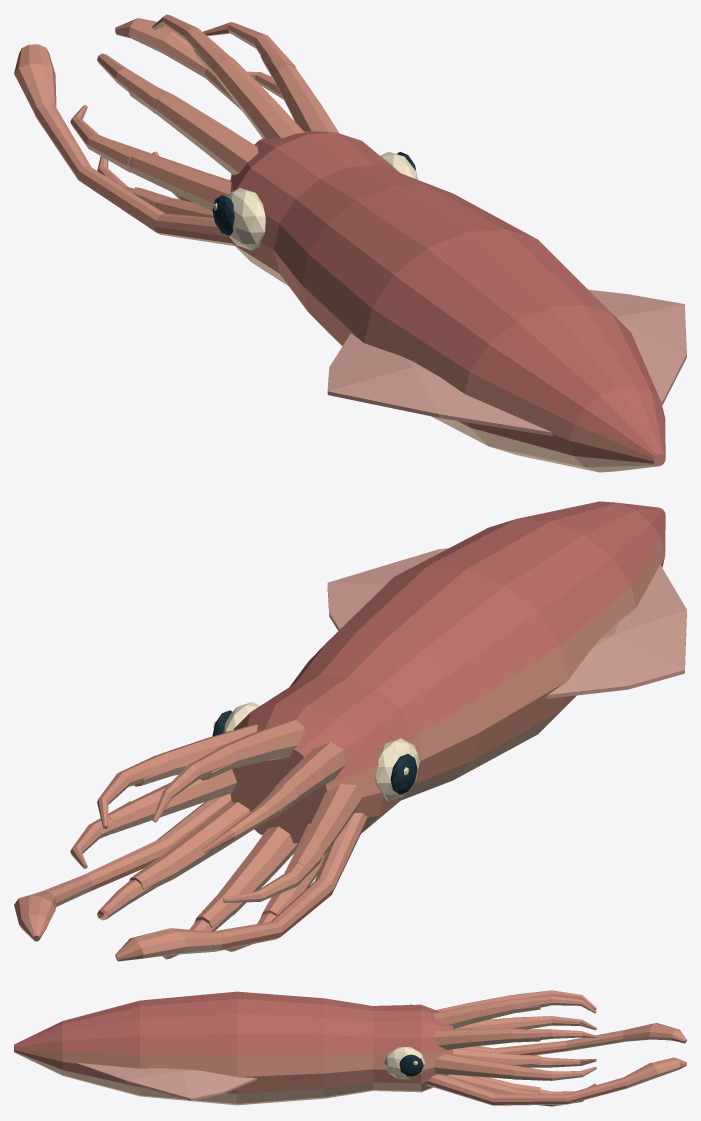
Rendered from wild_squid.glb.
The picture shows the model from 3 angles, top to bottom: view 1: azimuth 30°, elevation 25°; view 2: azimuth 150°, elevation 25°; view 3: azimuth 270°, elevation 25°; orthographic projection. The views are drawn at different scales.
Parts seen in each view (by area): view 1: continuous mantle and head, triangular mantle fin, long feeding tentacle, triangular mantle fin.001, supple short arm.003, supple short arm.002, supple short arm.004, supple short arm.001, long feeding tentacle.001, curled arm tip.003, curled arm tip.002, curled arm tip.004 (+2 smaller); view 2: continuous mantle and head, triangular mantle fin, long feeding tentacle, long feeding tentacle.001, supple short arm.006, supple short arm.007, triangular mantle fin.001, supple short arm, supple short arm.002, supple short arm.004, supple short arm.003, supple short arm.001 (+7 smaller); view 3: continuous mantle and head, long feeding tentacle.001, triangular mantle fin.001, long feeding tentacle, supple short arm, supple short arm.001, supple short arm.002, supple short arm.005, supple short arm.004, curled arm tip.001, curled arm tip, curled arm tip.002 (+6 smaller).
Part boxes in pixels (x1,y1,x2,y2): continuous mantle and head: (212, 131, 665, 472); triangular mantle fin: (327, 333, 552, 436); long feeding tentacle: (14, 44, 234, 245); triangular mantle fin.001: (588, 289, 686, 405); supple short arm.003: (128, 88, 258, 175); supple short arm.002: (194, 49, 304, 138); supple short arm.004: (103, 139, 231, 210); supple short arm.001: (260, 56, 339, 133); long feeding tentacle.001: (115, 18, 240, 109); curled arm tip.003: (97, 53, 162, 113); curled arm tip.002: (152, 14, 230, 65); curled arm tip.004: (70, 105, 136, 172); continuous mantle and head: (212, 501, 665, 843); triangular mantle fin: (546, 564, 686, 698); long feeding tentacle: (115, 813, 367, 961); long feeding tentacle.001: (14, 794, 231, 941); supple short arm.006: (194, 826, 298, 927); supple short arm.007: (129, 800, 253, 889); triangular mantle fin.001: (327, 548, 448, 630); supple short arm: (108, 769, 236, 833); supple short arm.002: (200, 720, 304, 780); supple short arm.004: (291, 784, 362, 865); supple short arm.003: (270, 742, 345, 818); supple short arm.001: (134, 724, 257, 786); continuous mantle and head: (14, 991, 452, 1105); long feeding tentacle.001: (426, 1057, 686, 1105); triangular mantle fin.001: (75, 1062, 256, 1100); long feeding tentacle: (459, 1023, 686, 1055); supple short arm: (434, 1054, 540, 1080); supple short arm.001: (433, 1028, 540, 1049); supple short arm.002: (433, 999, 540, 1029); supple short arm.005: (453, 1048, 541, 1067); supple short arm.004: (453, 1016, 541, 1029); curled arm tip.001: (514, 1029, 596, 1042); curled arm tip: (514, 1066, 596, 1080); curled arm tip.002: (516, 996, 596, 1013).
Size of the model in its own units: 0.49 by 0.238 by 1.39.
